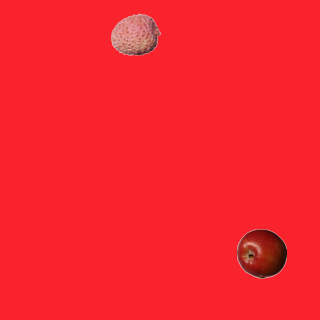Apple Braeburn: (236, 228, 286, 278)
Lychee: (110, 9, 160, 59)
